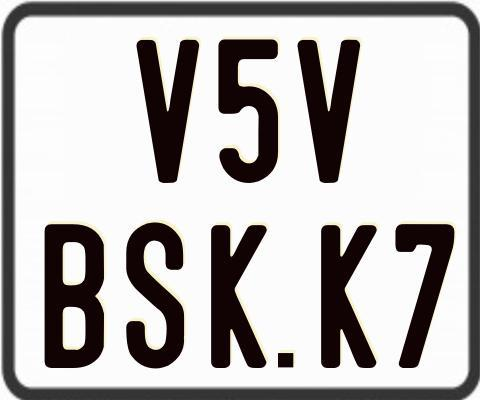5: (217, 39, 277, 185)
7: (393, 221, 454, 367)
B: (43, 224, 102, 370)
K: (321, 225, 381, 373), (209, 222, 265, 369)
S: (123, 220, 182, 368)
V: (137, 37, 201, 185), (296, 39, 359, 185)
